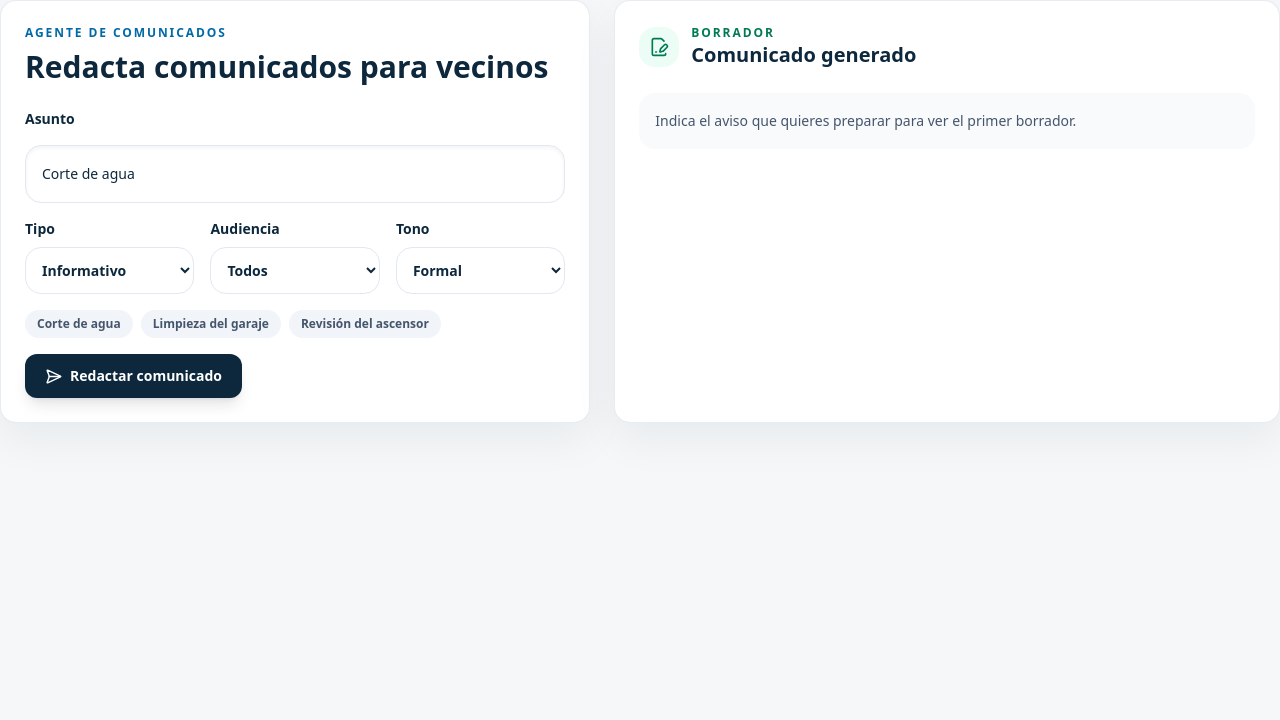
Test case: CommunityNoticePanel › muestra error accesible cuando falla la copia
Click the button "Redactar comunicado" at (134, 376), box left=25, top=354, right=242, bottom=398
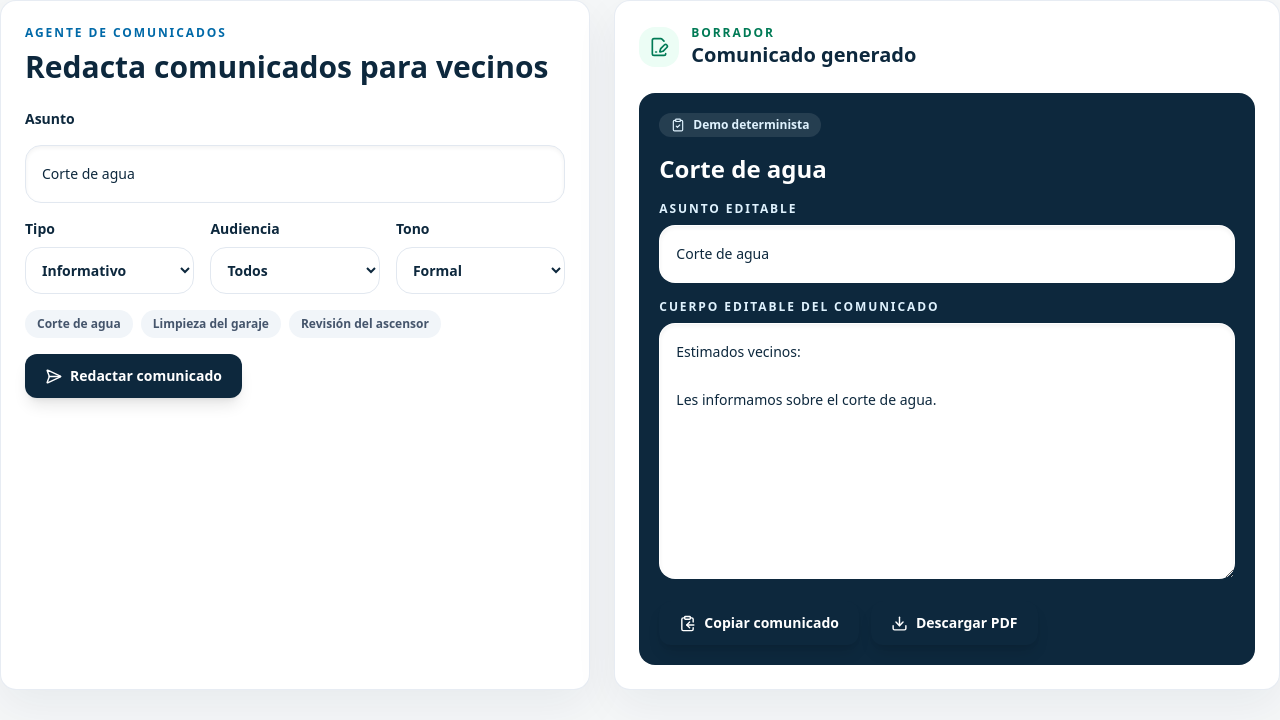
Click the button "Copiar comunicado" at (759, 623), box left=659, top=601, right=859, bottom=645
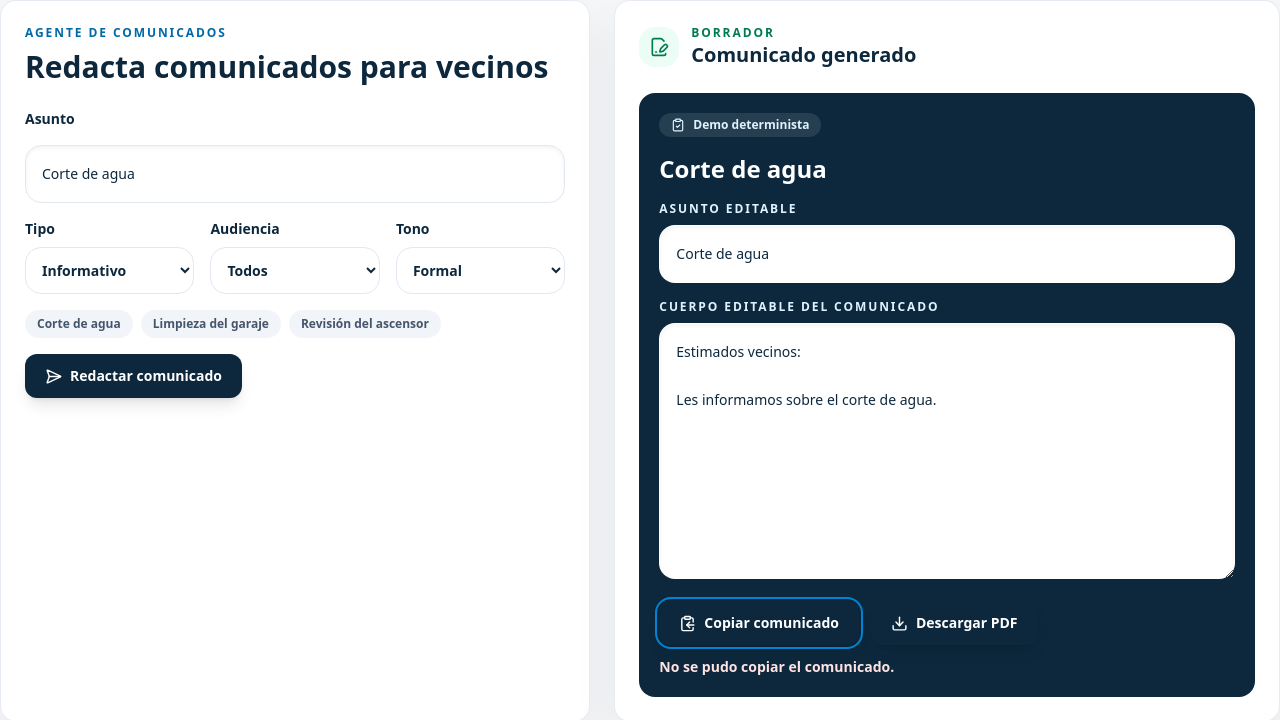
Now the message reads "No se pudo copiar el comunicado.", box left=659, top=657, right=894, bottom=676
